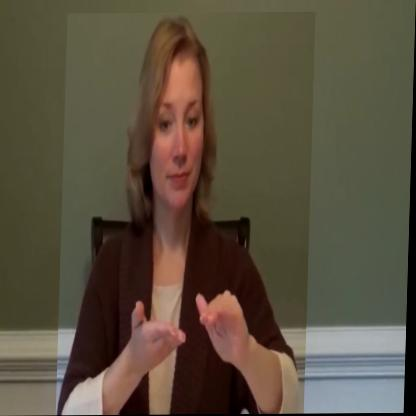ExcuseMe: (58, 12, 316, 416)
